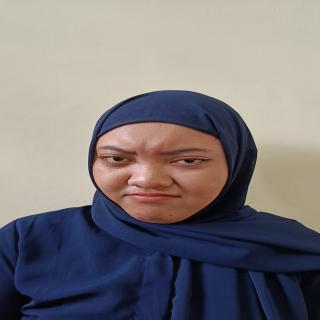Marah: (84, 115, 239, 228)
